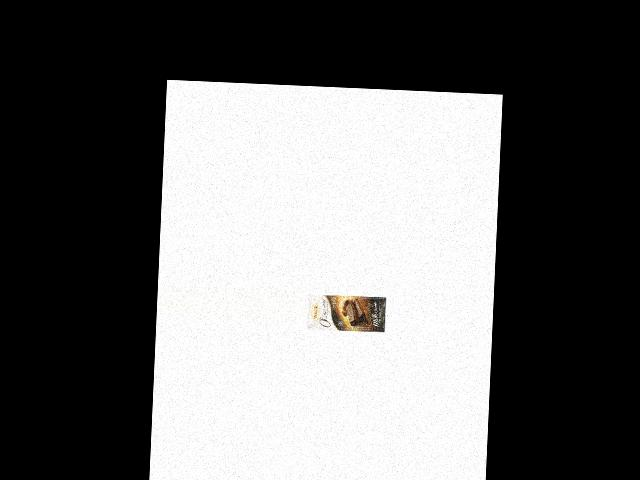chocolate: (306, 292, 386, 335)
